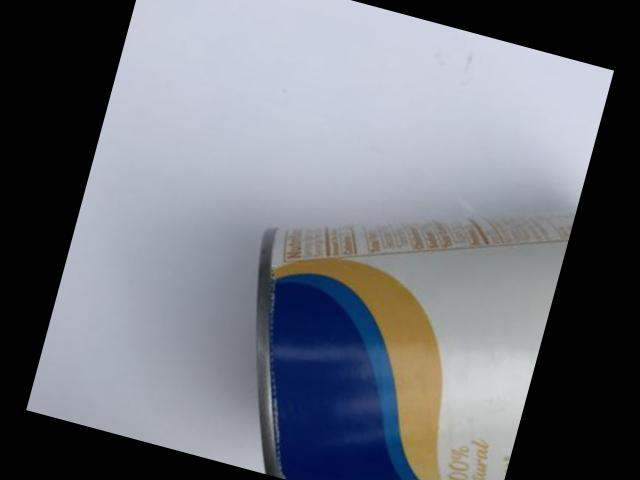metal: (260, 211, 575, 480)
